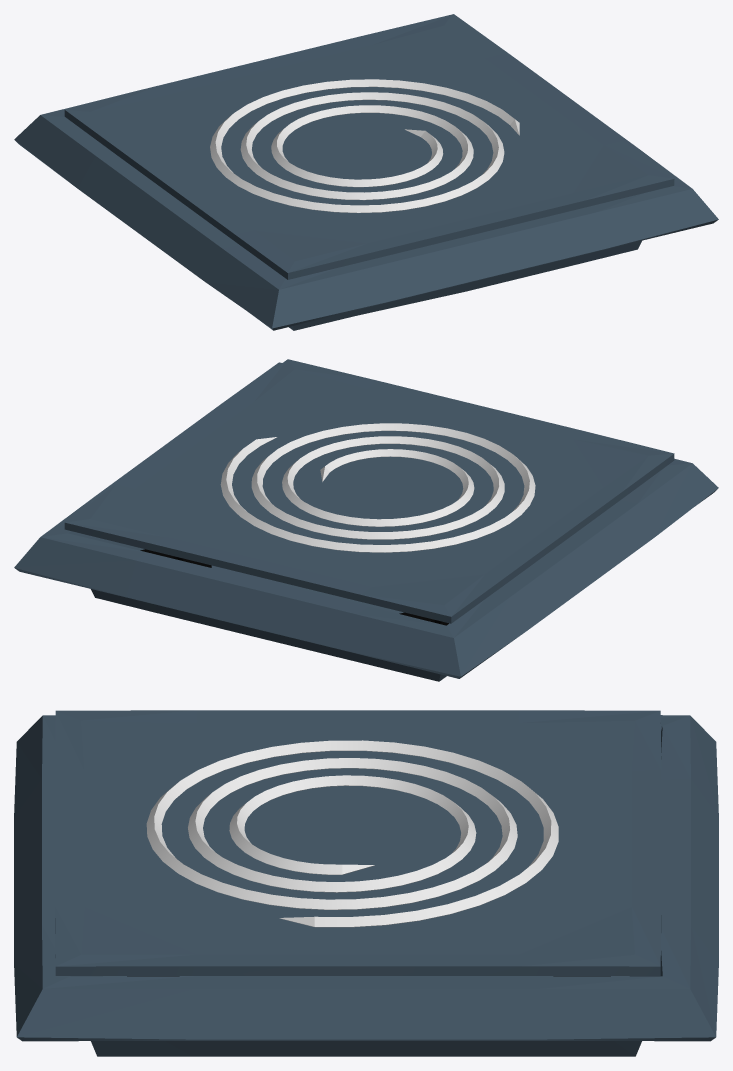
3 renders of one model, top to bottom at view 1: azimuth 30°, elevation 25°; view 2: azimuth 150°, elevation 25°; view 3: azimuth 270°, elevation 25°, orthographic. The views are drawn at different scales.
Visible parts, largest first — view 1: 对象001, Plane001, Helix002; view 2: 对象001, Plane001, Helix002; view 3: 对象001, Plane001, Helix002.
Part boxes in pixels (box(x1,y1,x2,y2)): 对象001: box(64, 15, 674, 279); Plane001: box(14, 14, 718, 330); Helix002: box(210, 79, 519, 212); 对象001: box(64, 359, 674, 623); Plane001: box(14, 362, 718, 681); Helix002: box(220, 423, 535, 552); 对象001: box(55, 710, 661, 975); Plane001: box(14, 715, 718, 1056); Helix002: box(146, 740, 558, 927).
Bounding box in the file's own units: 81.7 × 14.31 × 81.7.
